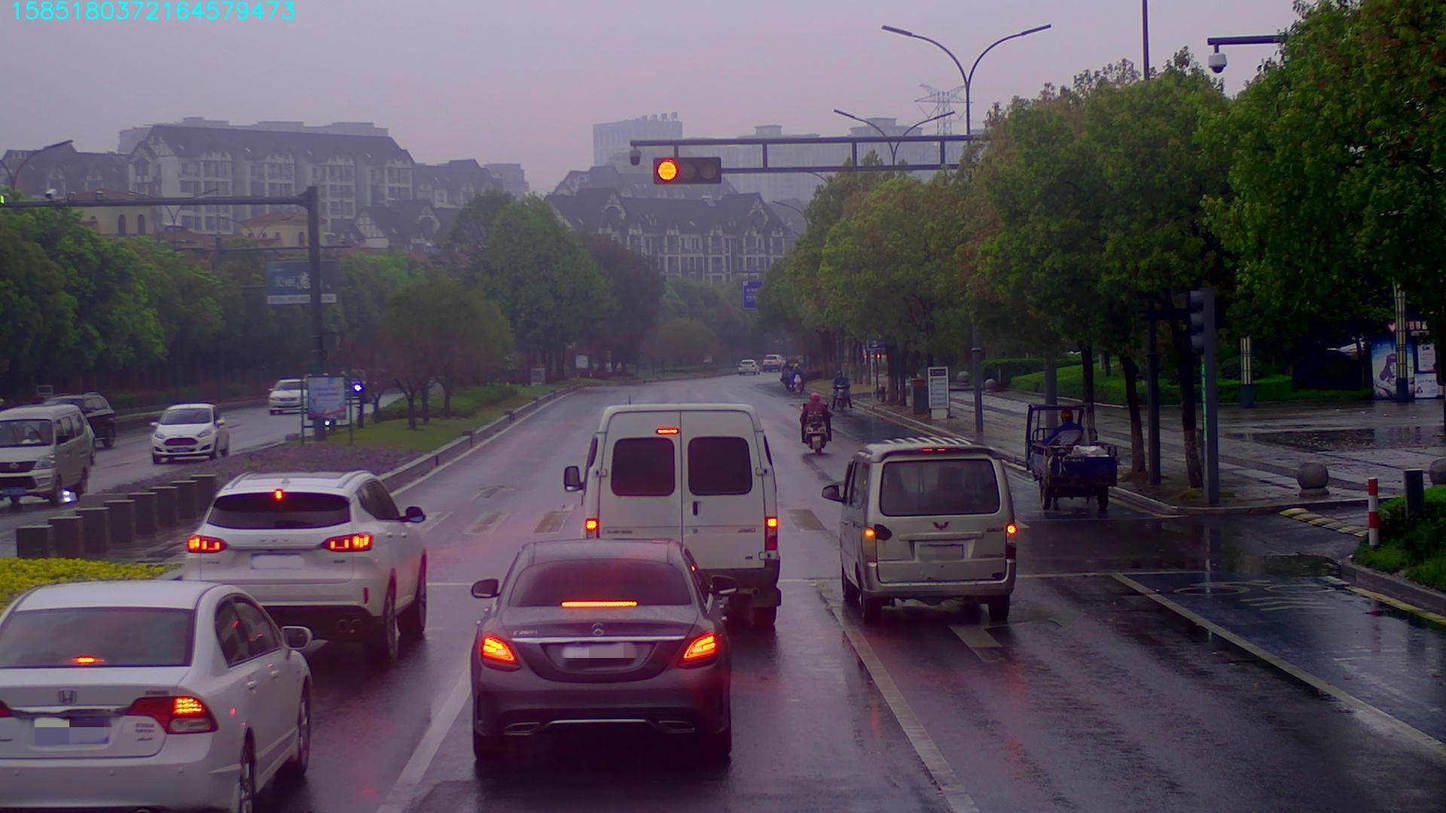red: (654, 160, 721, 181)
